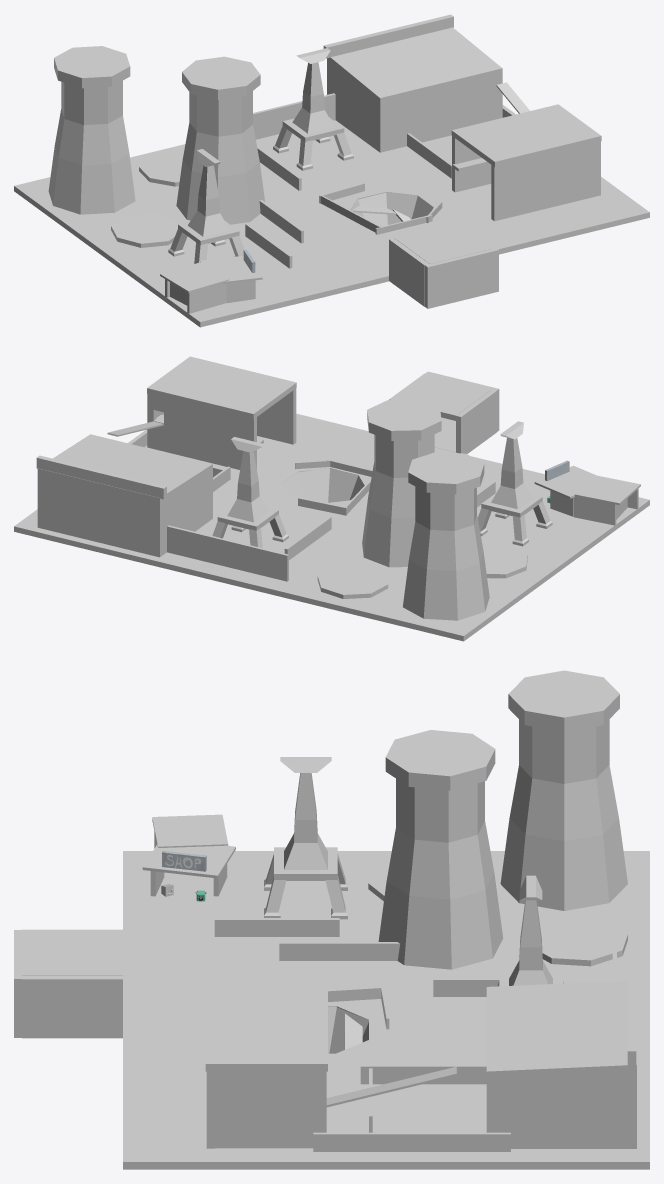
File: atom_loca.fbx
The picture shows the model from 3 angles, top to bottom: view 1: azimuth 30°, elevation 25°; view 2: azimuth 150°, elevation 25°; view 3: azimuth 270°, elevation 25°; orthographic projection. The views are drawn at different scales.
Visible parts, largest first — view 1: Floor, HomeObjects.004, CoolingTower, CoolingTower.001, HomeObjects, HomeObjects.002, SpawnBox.002, Cube.047, PowerTransmissionPole, SpawnBox, SpawnBox.001, Pool.001 (+16 smaller); view 2: Floor, HomeObjects.004, CoolingTower, CoolingTower.001, HomeObjects.002, HomeObjects.001, Obstacle.001, SpawnBox, Cube.047, PowerTransmissionPole, Hole, SpawnBox.001 (+12 smaller); view 3: Floor, CoolingTower, HomeObjects.004, CoolingTower.001, HomeObjects.002, HomeObjects.003, SpawnBox.001, PowerTransmissionPole, SpawnBox, Obstacle.004, Pool, Cube.047 (+13 smaller).
Boxes of the visible parts, x1=… form: Floor: x1=14, y1=105, x2=649, y2=327; HomeObjects.004: x1=327, y1=27, x2=502, y2=152; CoolingTower: x1=48, y1=46, x2=135, y2=214; CoolingTower.001: x1=176, y1=56, x2=264, y2=224; HomeObjects: x1=491, y1=141, x2=600, y2=221; HomeObjects.002: x1=451, y1=104, x2=601, y2=167; SpawnBox.002: x1=425, y1=248, x2=498, y2=308; Cube.047: x1=282, y1=48, x2=344, y2=141; PowerTransmissionPole: x1=178, y1=149, x2=239, y2=244; SpawnBox: x1=394, y1=223, x2=490, y2=263; SpawnBox.001: x1=389, y1=222, x2=496, y2=306; Pool.001: x1=111, y1=213, x2=179, y2=247; Floor: x1=14, y1=413, x2=649, y2=641; HomeObjects.004: x1=37, y1=434, x2=212, y2=557; CoolingTower: x1=403, y1=452, x2=489, y2=620; CoolingTower.001: x1=362, y1=399, x2=441, y2=567; HomeObjects.002: x1=147, y1=356, x2=296, y2=419; HomeObjects.001: x1=147, y1=393, x2=256, y2=469; Obstacle.001: x1=167, y1=525, x2=288, y2=581; SpawnBox: x1=395, y1=374, x2=491, y2=452; Cube.047: x1=217, y1=437, x2=278, y2=530; PowerTransmissionPole: x1=481, y1=421, x2=542, y2=517; Hole: x1=282, y1=468, x2=364, y2=502; SpawnBox.001: x1=389, y1=373, x2=496, y2=453; Floor: x1=123, y1=851, x2=649, y2=1169; CoolingTower: x1=500, y1=670, x2=627, y2=910; HomeObjects.004: x1=486, y1=980, x2=636, y2=1148; CoolingTower.001: x1=378, y1=730, x2=503, y2=969; HomeObjects.002: x1=205, y1=990, x2=327, y2=1071; HomeObjects.003: x1=215, y1=1071, x2=318, y2=1148; SpawnBox.001: x1=22, y1=929, x2=122, y2=1038; PowerTransmissionPole: x1=274, y1=757, x2=337, y2=880; SpawnBox: x1=22, y1=933, x2=122, y2=975; Obstacle.004: x1=313, y1=1132, x2=510, y2=1151; Pool: x1=540, y1=918, x2=627, y2=966; Cube.047: x1=499, y1=875, x2=562, y2=986.
Size of the model in its own units: 88.39 by 33.39 by 75.63.
Materials: 2 (2 with a texture image).
